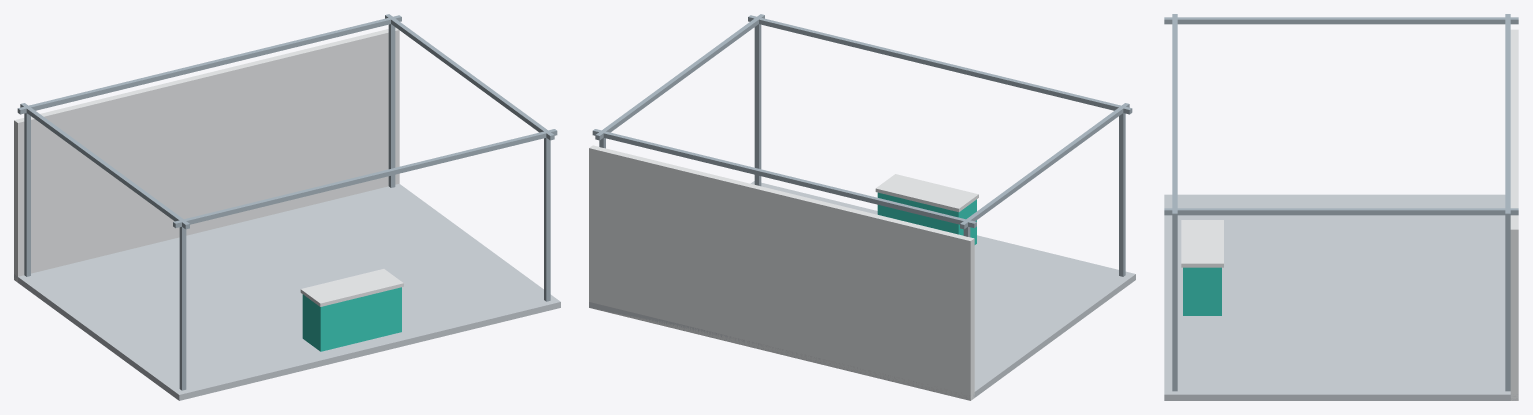
3 renders of one model, left to right at view 1: azimuth 30°, elevation 25°; view 2: azimuth 150°, elevation 25°; view 3: azimuth 270°, elevation 25°, orthographic. The views are drawn at different scales.
Visible parts, largest first — view 1: Exhibition Booth Concept; view 2: Exhibition Booth Concept; view 3: Exhibition Booth Concept.
Part boxes in pixels (x1,y1,x2,y2): Exhibition Booth Concept: [14, 14, 560, 400]; Exhibition Booth Concept: [589, 14, 1135, 400]; Exhibition Booth Concept: [1164, 14, 1518, 400].
Size of the model in its own units: 8 by 3.49 by 6.
